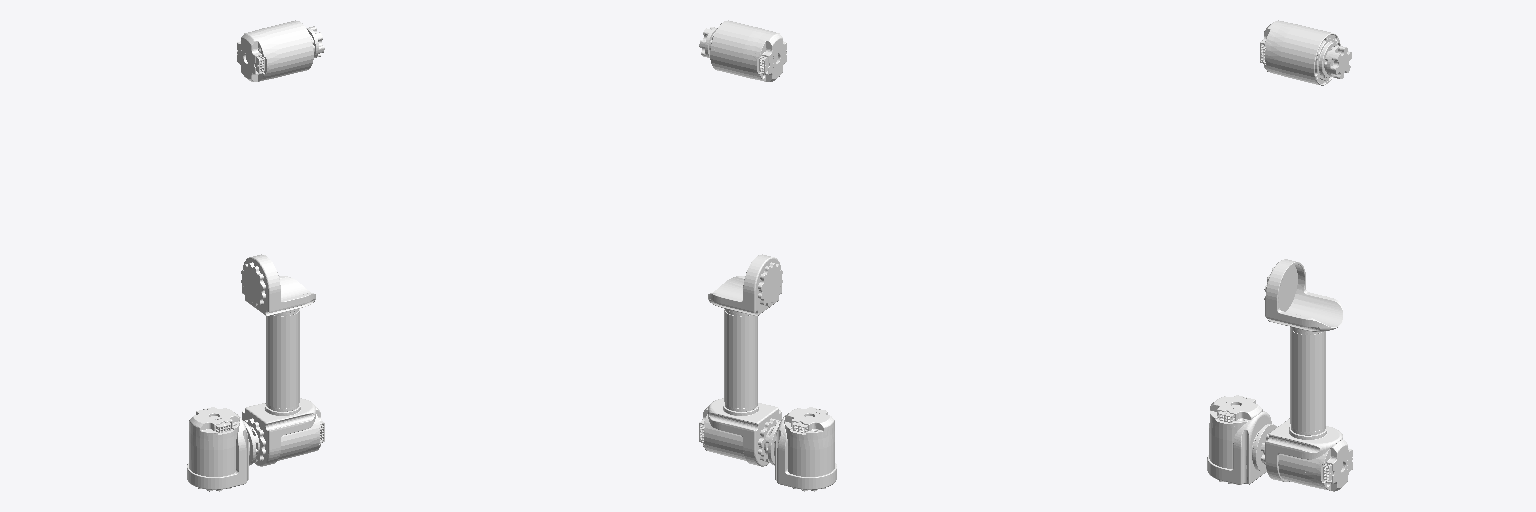
URDF robot description (gluon):
<?xml version="1.0" encoding="utf-8"?>
<!-- This URDF was automatically created by SolidWorks to URDF Exporter! Originally created by [author] ([email redacted]) 
     Commit Version: 1.5.1-0-g916b5db  Build Version: 1.5.7152.31018
     For more information, please see http://wiki.ros.org/sw_urdf_exporter -->
<robot
  name="gluon">
  <link
    name="dummy">
  </link>
  <link
    name="gluon_base_link">
    <inertial>
      <origin
        xyz="4.33680868994202E-18 -6.00214600243731E-11 0.0271404483614374"
        rpy="0 0 0" />
      <mass
        value="0.524001417146026" />
      <inertia
        ixx="0.000535467082580035"
        ixy="-5.8056109802237E-10"
        ixz="3.22416889484249E-20"
        iyy="0.000535467122847014"
        iyz="-1.91837356854663E-11"
        izz="0.000799852045598815" />
    </inertial>
    <visual>
      <origin
        xyz="0 0 0"
        rpy="0 0 0" />
      <geometry>
        <mesh
          filename="../meshes/gluon_base_link.STL" />
      </geometry>
      <material
        name="">
        <color
          rgba="1 1 1 1" />
      </material>
    </visual>
    <collision>
      <origin
        xyz="0 0 0"
        rpy="0 0 0" />
      <geometry>
        <mesh
          filename="./meshes/gluon_base_link.STL" />
      </geometry>
    </collision>
  </link>
  <joint
    name="dummy_joint"
    type="fixed">
    <origin
        xyz="0 0 0"
        rpy="0 0 0" />
    <parent
        link="dummy" />
    <child
        link="gluon_base_link" />
  </joint>
  <link
    name="gluon_link1">
    <inertial>
      <origin
        xyz="0.00464247258603146 -3.55800695980568E-05 -0.000556506974114818"
        rpy="0 0 0" />
      <mass
        value="0.166259789544396" />
      <inertia
        ixx="6.76518298922659E-05"
        ixy="-1.5556489245956E-08"
        ixz="-8.15879264327807E-06"
        iyy="6.70385565720365E-05"
        iyz="4.11369338798553E-08"
        izz="6.03698353342124E-05" />
    </inertial>
    <visual>
      <origin
        xyz="0 0 0"
        rpy="0 0 0" />
      <geometry>
        <mesh
          filename="./meshes/gluon_link1.STL" />
      </geometry>
      <material
        name="">
        <color
          rgba="1 1 1 1" />
      </material>
    </visual>
    <collision>
      <origin
        xyz="0 0 0"
        rpy="0 0 0" />
      <geometry>
        <mesh
          filename="./meshes/gluon_link1.STL" />
      </geometry>
    </collision>
  </link>
  <joint
    name="axis_joint_1"
    type="revolute">
    <origin
      xyz="-2.4327E-05 2.2695E-05 0.105"
      rpy="0 0 0" />
    <parent
      link="gluon_base_link" />
    <child
      link="gluon_link1" />
    <axis
      xyz="0 0 -1" />
    <limit
      lower="-2.79"
      upper="2.79"
      effort="30"
      velocity="3.14" />
  </joint>
  <link
    name="gluon_link2">
    <inertial>
      <origin
        xyz="-0.00354399449686532 6.83167072432211E-06 0.0535596075762168"
        rpy="0 0 0" />
      <mass
        value="0.316094041078938" />
      <inertia
        ixx="0.000174638310500152"
        ixy="-4.1835416811351E-08"
        ixz="-2.08841744154906E-07"
        iyy="0.000184936237600061"
        iyz="1.60668786323061E-08"
        izz="0.000107780595065675" />
    </inertial>
    <visual>
      <origin
        xyz="0 0 0"
        rpy="0 0 0" />
      <geometry>
        <mesh
          filename="./meshes/gluon_link2.STL" />
      </geometry>
      <material
        name="">
        <color
          rgba="1 1 1 1" />
      </material>
    </visual>
    <collision>
      <origin
        xyz="0 0 0"
        rpy="0 0 0" />
      <geometry>
        <mesh
          filename="./meshes/gluon_link2.STL" />
      </geometry>
    </collision>
  </link>
  <joint
    name="axis_joint_2"
    type="revolute">
    <origin
      xyz="0.080113 -2.2695E-05 0"
      rpy="0 0 0" />
    <parent
      link="gluon_link1" />
    <child
      link="gluon_link2" />
    <axis
      xyz="-1 0 0" />
    <limit
      lower="-1.54"
      upper="1.54"
      effort="30"
      velocity="3.14" />
  </joint>
  <link
    name="gluon_link3">
    <inertial>
      <origin
        xyz="-0.046552753550141 -6.68259662081616E-06 0.0523242797053055"
        rpy="0 0 0" />
      <mass
        value="0.323135746651779" />
      <inertia
        ixx="0.000176611314431077"
        ixy="4.18325643591624E-08"
        ixz="2.08841259569185E-07"
        iyy="0.000185932099122903"
        iyz="1.40317731158265E-08"
        izz="0.000108776454638344" />
    </inertial>
    <visual>
      <origin
        xyz="0 0 0"
        rpy="0 0 0" />
      <geometry>
        <mesh
          filename="./meshes/gluon_link3.STL" />
      </geometry>
      <material
        name="">
        <color
          rgba="1 1 1 1" />
      </material>
    </visual>
    <collision>
      <origin
        xyz="0 0 0"
        rpy="0 0 0" />
      <geometry>
        <mesh
          filename="./meshes/gluon_link3.STL" />
      </geometry>
    </collision>
  </link>
  <joint
    name="axis_joint_3"
    type="revolute">
    <origin
      xyz="0 0 0.17447"
      rpy="0 0 0" />
    <parent
      link="gluon_link2" />
    <child
      link="gluon_link3" />
    <axis
      xyz="1 0 0" />
    <limit
      lower="-2.79"
      upper="2.79"
      effort="30"
      velocity="3.14" />
  </joint>
  <link
    name="gluon_link4">
    <inertial>
      <origin
        xyz="0.0182269184920331 1.24412678982888E-05 0.00395855146065832"
        rpy="0 0 0" />
      <mass
        value="0.174947986817189" />
      <inertia
        ixx="6.61039276820243E-05"
        ixy="4.2340099438174E-08"
        ixz="-8.15879264340351E-06"
        iyy="6.76311730651952E-05"
        iyz="-1.4353323683088E-08"
        izz="6.34296690009448E-05" />
    </inertial>
    <visual>
      <origin
        xyz="0 0 0"
        rpy="0 0 0" />
      <geometry>
        <mesh
          filename="./meshes/gluon_link4.STL" />
      </geometry>
      <material
        name="">
        <color
          rgba="1 1 1 1" />
      </material>
    </visual>
    <collision>
      <origin
        xyz="0 0 0"
        rpy="0 0 0" />
      <geometry>
        <mesh
          filename="./meshes/gluon_link4.STL" />
      </geometry>
    </collision>
  </link>
  <joint
    name="axis_joint_4"
    type="revolute">
    <origin
      xyz="-0.084516 0 0.17442"
      rpy="0 0 0" />
    <parent
      link="gluon_link3" />
    <child
      link="gluon_link4" />
    <axis
      xyz="-1 0 0" />
    <limit
      lower="-2.79"
      upper="2.79"
      effort="30"
      velocity="3.14" />
  </joint>
  <link
    name="gluon_link5">
    <inertial>
      <origin
        xyz="0.00395855202736296 -3.51379306736399E-05 0.0182025903111476"
        rpy="0 0 0" />
      <mass
        value="0.174947985033356" />
      <inertia
        ixx="6.34296685392068E-05"
        ixy="1.43441999593359E-08"
        ixz="-8.15879467982627E-06"
        iyy="6.76311733496419E-05"
        iyz="-4.23418981680198E-08"
        izz="6.61039240611986E-05" />
    </inertial>
    <visual>
      <origin
        xyz="0 0 0"
        rpy="0 0 0" />
      <geometry>
        <mesh
          filename="./meshes/gluon_link5.STL" />
      </geometry>
      <material
        name="">
        <color
          rgba="1 1 1 1" />
      </material>
    </visual>
    <collision>
      <origin
        xyz="0 0 0"
        rpy="0 0 0" />
      <geometry>
        <mesh
          filename="./meshes/gluon_link5.STL" />
      </geometry>
    </collision>
  </link>
  <joint
    name="axis_joint_5"
    type="revolute">
    <origin
      xyz="0.080113 2.2695E-05 0"
      rpy="0 0 0" />
    <parent
      link="gluon_link4" />
    <child
      link="gluon_link5" />
    <axis
      xyz="0 0 -1" />
    <limit
      lower="-2.79"
      upper="2.79"
      effort="30"
      velocity="3.14" />
  </joint>
  <link
    name="6_Link">
    <inertial>
      <origin
        xyz="-0.00231632591813243 4.03819823737578E-05 -5.08515816782795E-05"
        rpy="0 0 0" />
      <mass
        value="0.122091979083374" />
      <inertia
        ixx="3.76561532469651E-05"
        ixy="4.18325643595058E-08"
        ixz="-2.08841259371089E-07"
        iyy="4.00422747874576E-05"
        iyz="-1.50489542382975E-08"
        izz="3.97966719504564E-05" />
    </inertial>
    <visual>
      <origin
        xyz="0 0 0"
        rpy="0 0 0" />
      <geometry>
        <mesh
          filename="./meshes/6_Link.STL" />
      </geometry>
      <material
        name="">
        <color
          rgba="1 1 1 1" />
      </material>
    </visual>
    <collision>
      <origin
        xyz="0 0 0"
        rpy="0 0 0" />
      <geometry>
        <mesh
          filename="./meshes/6_Link.STL" />
      </geometry>
    </collision>
  </link>
  <joint
    name="axis_joint_6"
    type="revolute">
    <origin
      xyz="0 -4.5391E-05 0.080089"
      rpy="0 0 0" />
    <parent
      link="gluon_link5" />
    <child
      link="6_Link" />
    <axis
      xyz="-1 0 0" />
    <limit
      lower="-2.79"
      upper="2.79"
      effort="30"
      velocity="3.14" />
  </joint>
</robot>

--- Render facts (derived) ---
Views: 3 orthographic renders of the robot side by side, from view 1: azimuth 30°, elevation 25°; view 2: azimuth 150°, elevation 25°; view 3: azimuth 330°, elevation 25°.
Robot: gluon — 8 links, 7 joints (6 revolute, 1 fixed); root link dummy; default pose: every joint at zero.
Visible links, largest first — view 1: gluon_link2, gluon_link1, 6_Link; view 2: gluon_link2, gluon_link1, 6_Link; view 3: gluon_link2, gluon_link1, 6_Link.
Link boxes in pixels (box(x1,y1,x2,y2)): gluon_link2: box(241, 254, 324, 466); gluon_link1: box(187, 407, 255, 491); 6_Link: box(237, 20, 324, 81); gluon_link2: box(699, 254, 782, 466); gluon_link1: box(768, 407, 836, 491); 6_Link: box(699, 20, 786, 81); gluon_link2: box(1261, 259, 1352, 491); gluon_link1: box(1207, 395, 1276, 484); 6_Link: box(1260, 20, 1351, 85).
Size in the robot's own frame: 0.1479 by 0.0558 by 0.4911 metres.
3 mesh visuals loaded from 7 distinct referenced files (3 binary STL); not drawn: 4 (reference not matched to a file when rendering).